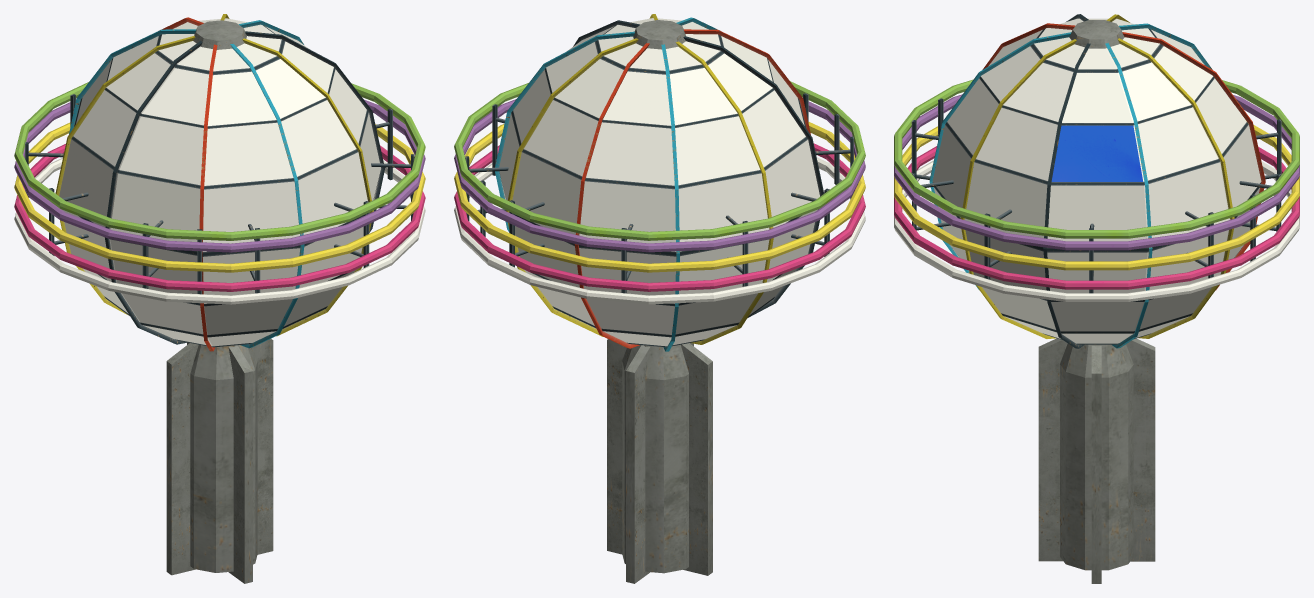
Rendered from rooftop_adball02.fbx.
The picture shows the model from 3 angles, left to right: view 1: azimuth 30°, elevation 25°; view 2: azimuth 150°, elevation 25°; view 3: azimuth 270°, elevation 25°; orthographic projection.
Parts seen in each view (by area): view 1: rooftop_adball02; view 2: rooftop_adball02; view 3: rooftop_adball02.
Part boxes in pixels (box(x1,y1,x2,y2)): rooftop_adball02: box(14, 14, 425, 583); rooftop_adball02: box(454, 14, 865, 583); rooftop_adball02: box(894, 14, 1299, 583).
Bounding box in the file's own units: 494 × 713 × 493.
